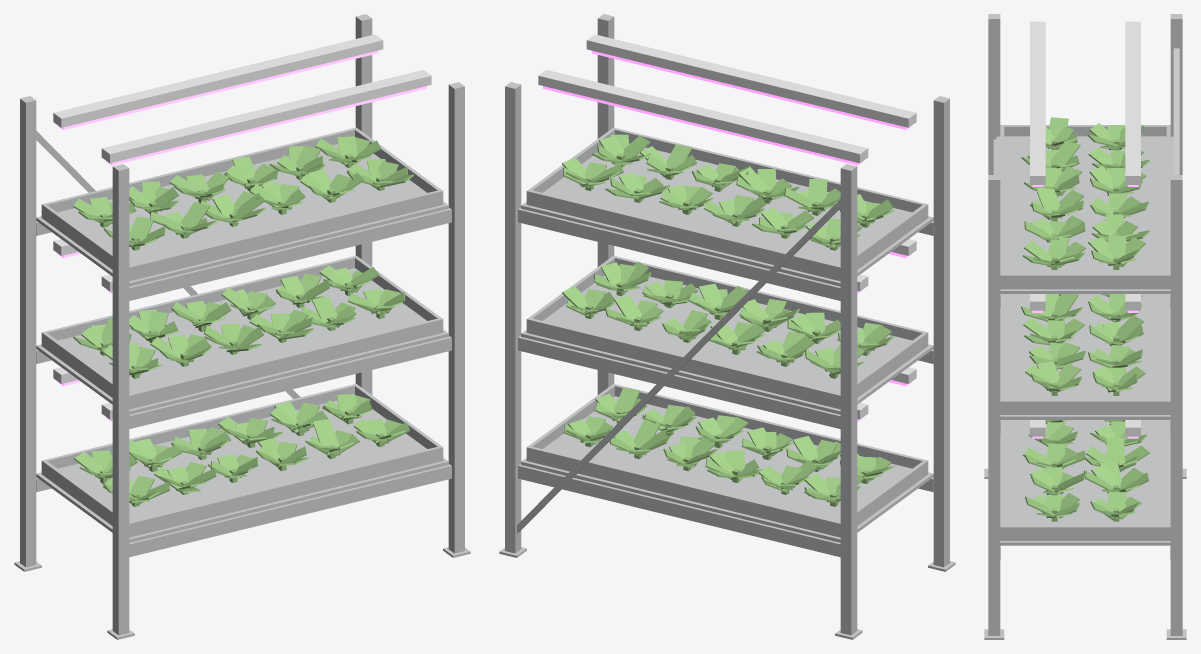
Rendered from vertical-farm-and-hydroponics-tower-vertical-farm-and--2feb4f62__38339.glb.
3 renders of one model, left to right at view 1: azimuth 30°, elevation 25°; view 2: azimuth 150°, elevation 25°; view 3: azimuth 270°, elevation 25°, orthographic.
Visible parts, largest first — view 1: vertical-farm-and-hydroponics-tower-grow-rack-bay-lettuce, tray-mid/steel, tray-mid/leaf; view 2: vertical-farm-and-hydroponics-tower-grow-rack-bay-lettuce, tray-mid/steel, tray-mid/leaf; view 3: vertical-farm-and-hydroponics-tower-grow-rack-bay-lettuce, tray-mid/steel, tray-mid/leaf.
Boxes of the visible parts, bbox=[...] form: vertical-farm-and-hydroponics-tower-grow-rack-bay-lettuce: bbox=[14, 14, 470, 639]; tray-mid/steel: bbox=[41, 255, 443, 409]; tray-mid/leaf: bbox=[73, 265, 404, 378]; vertical-farm-and-hydroponics-tower-grow-rack-bay-lettuce: bbox=[499, 14, 955, 639]; tray-mid/steel: bbox=[526, 255, 928, 409]; tray-mid/leaf: bbox=[562, 261, 893, 378]; vertical-farm-and-hydroponics-tower-grow-rack-bay-lettuce: bbox=[984, 14, 1186, 639]; tray-mid/steel: bbox=[1000, 294, 1170, 414]; tray-mid/leaf: bbox=[1021, 294, 1145, 395].
Bounding box in the file's own units: 2.02 × 2.55 × 1.02.
